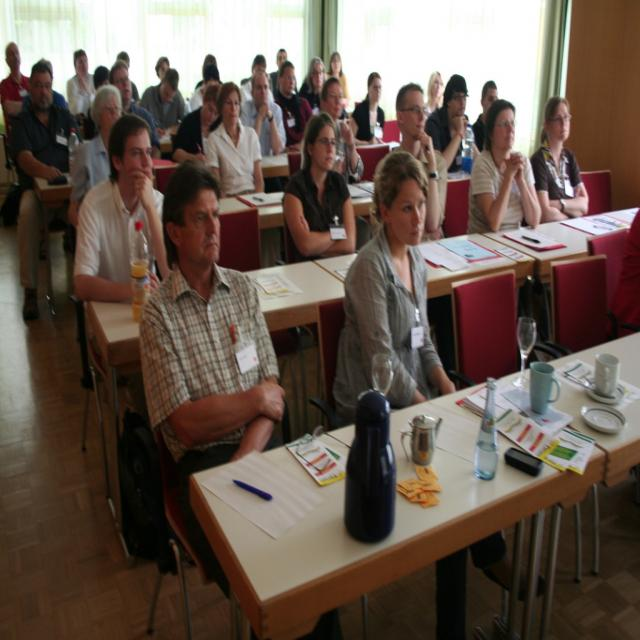chair: (452, 264, 520, 386), (551, 252, 611, 352), (310, 297, 346, 431), (218, 204, 262, 271), (444, 174, 471, 237), (579, 170, 612, 214)
desk: (168, 267, 630, 630)
person: (137, 157, 287, 599), (326, 148, 462, 425), (8, 56, 82, 324), (73, 114, 172, 304), (282, 112, 356, 262), (468, 100, 542, 233), (392, 82, 448, 241), (530, 95, 589, 223), (203, 80, 265, 198), (610, 206, 640, 333)
